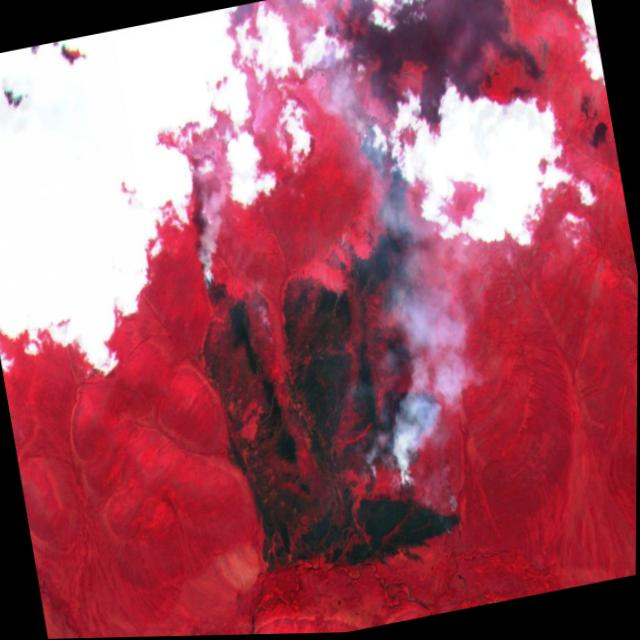fire: (360, 427, 422, 505), (186, 227, 224, 305), (440, 484, 463, 537)
